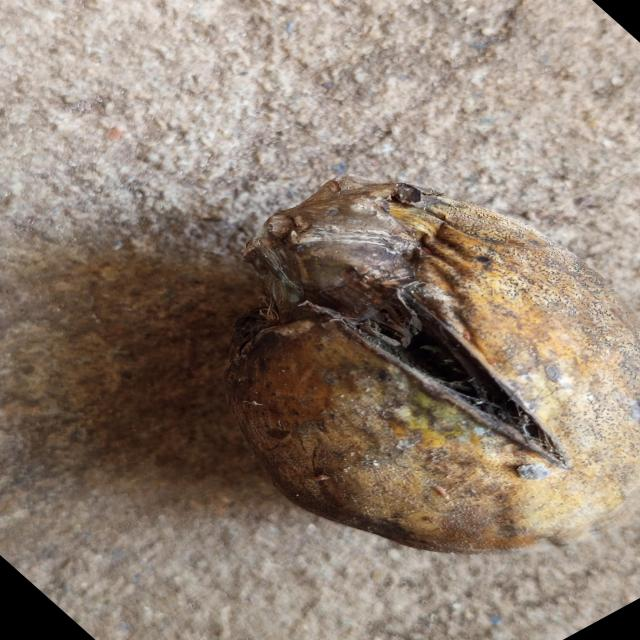damaged: (224, 176, 640, 556)
